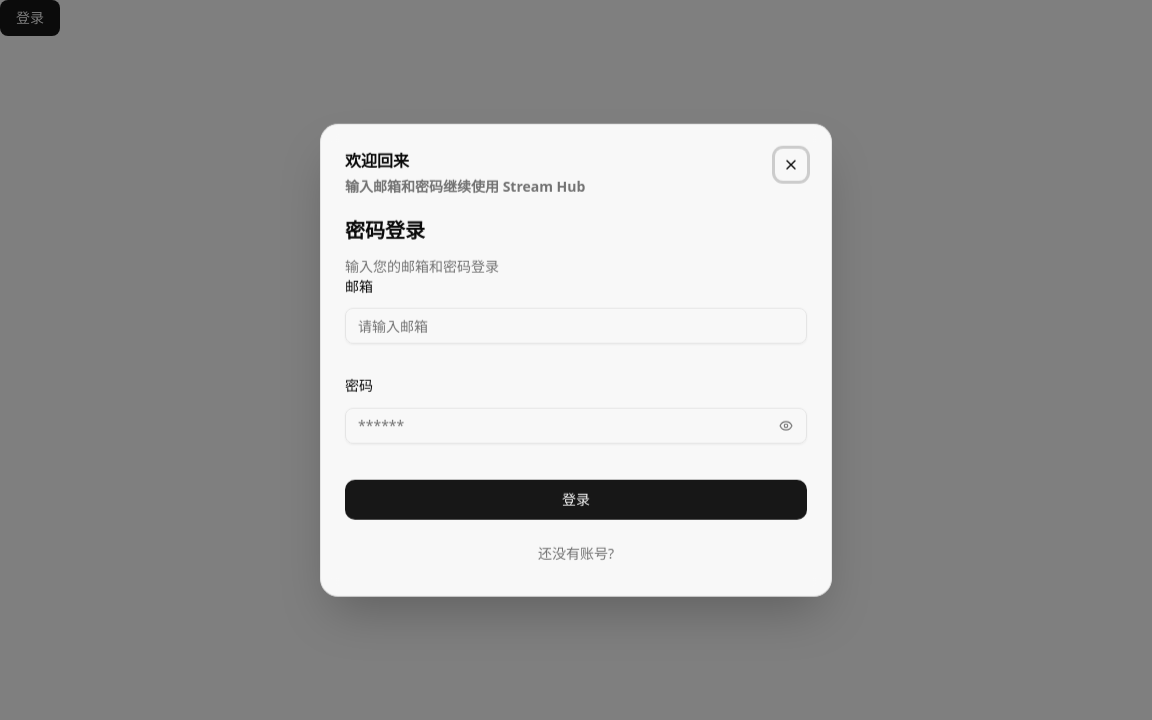
Test: Register Component › should render register form when switch to register
Click the button "还没有账号?" at (576, 553), box [345,535,807,571]
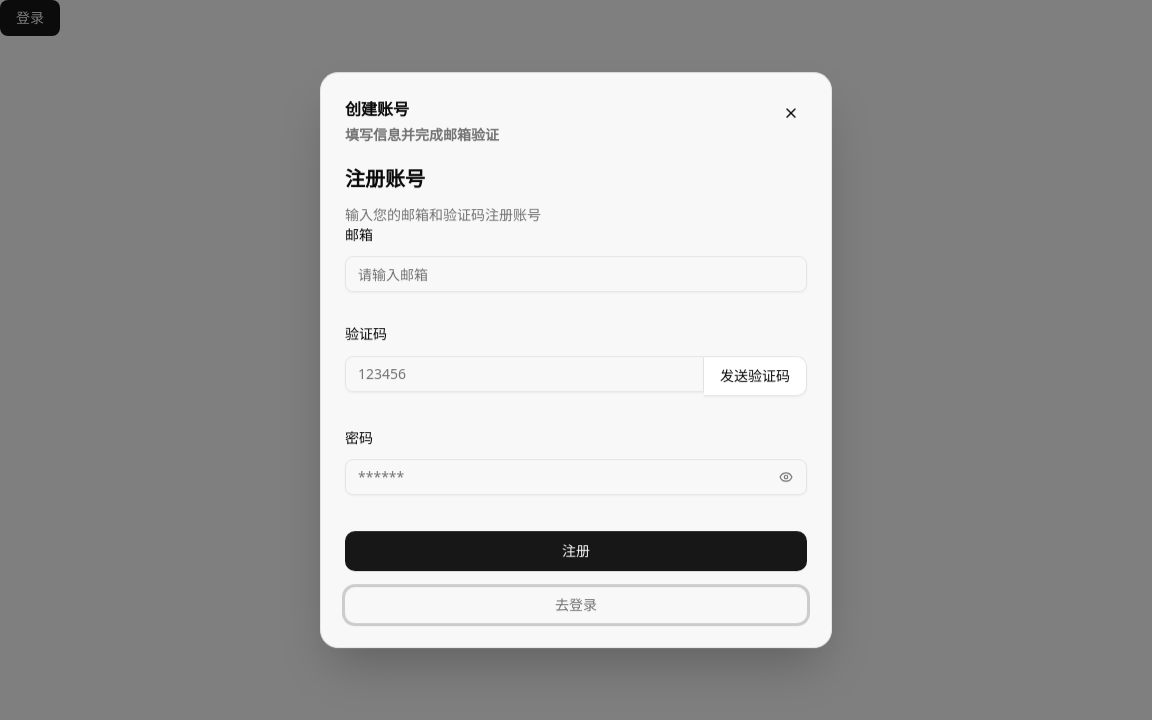
Expected: the number field labelled "验证码" is shown, [345,356,704,392]
